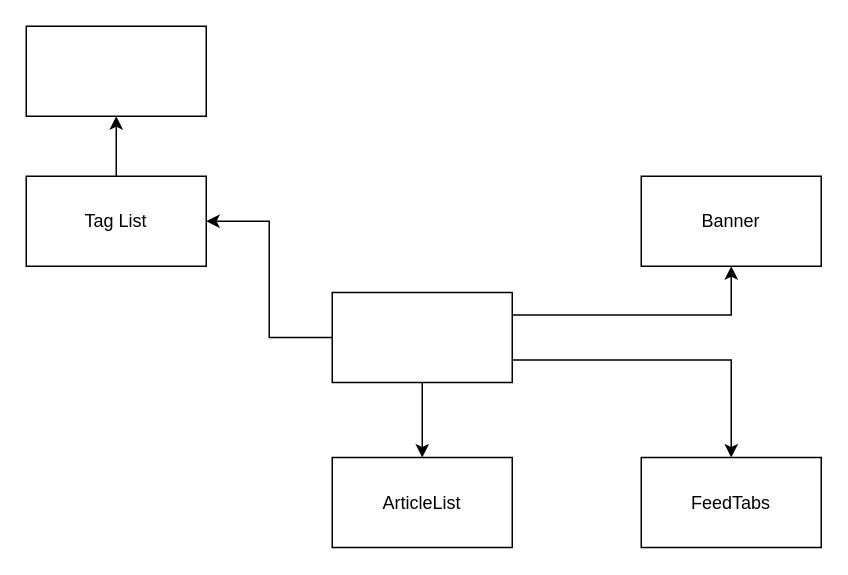
Image size: 848x575. Some labels were removed from this diagram. Each missing label, with the centre of its shape:
"Home" goes at (x=421, y=336).
"Tag" goes at (x=115, y=70).
